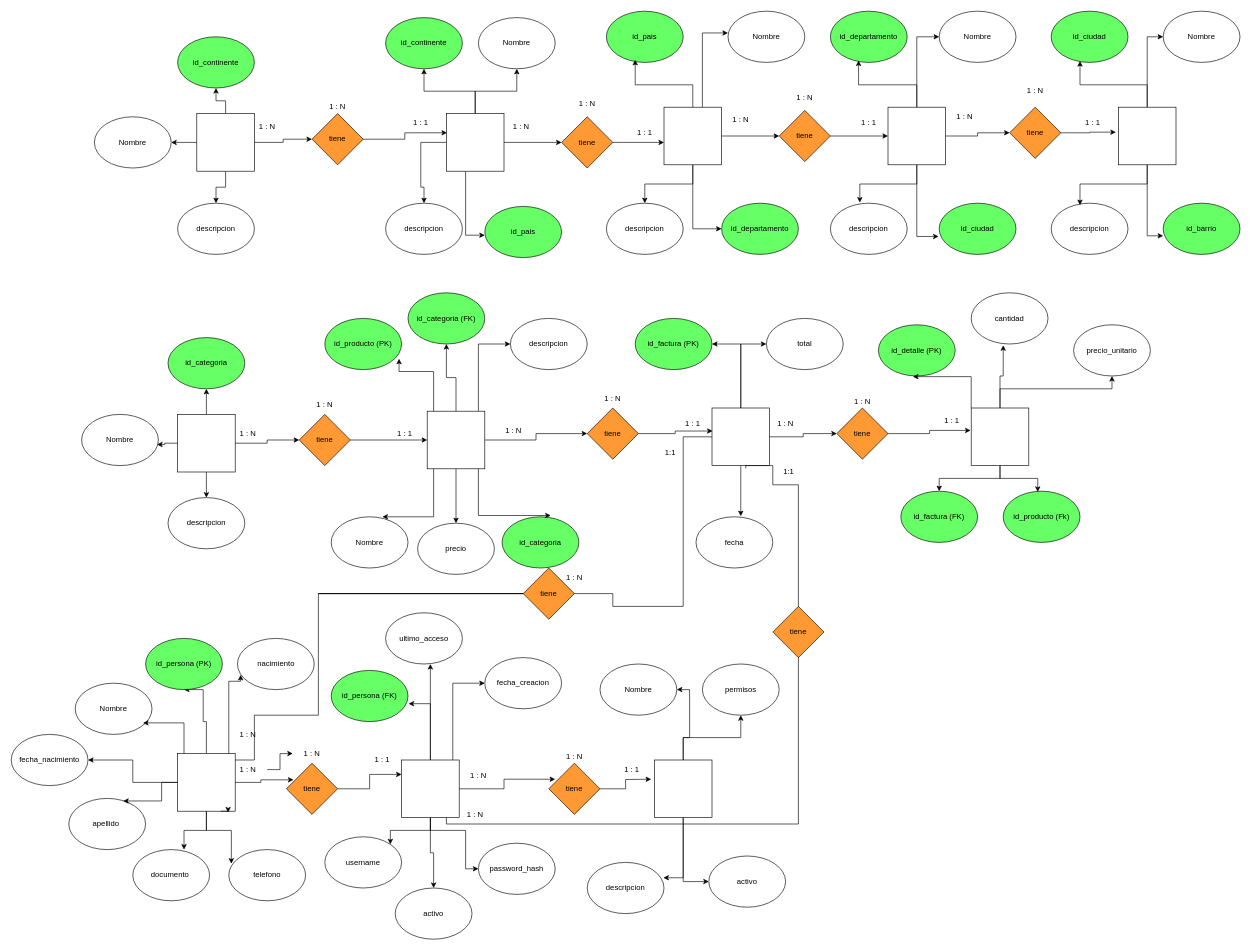
This 1251x950 diagram has some shape labels left out. The shapes that lost their labels are listed below. From the top down, each one's centre as x and y in pixels, then its label:
At [225,142]: "Continente".
At [475,142]: "Pais".
At [692,136]: "departamento".
At [916,136]: "ciudad".
At [1147,136]: "barrio".
At [206,443]: "categoria".
At [456,440]: "producto".
At [740,436]: "factura".
At [1000,436]: "detalle_factura".
At [206,782]: "persona".
At [430,788]: "usuario".
At [683,788]: "rol".
